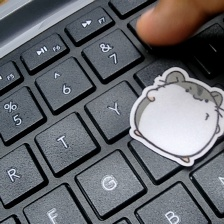mouse: (127, 63, 224, 172)
